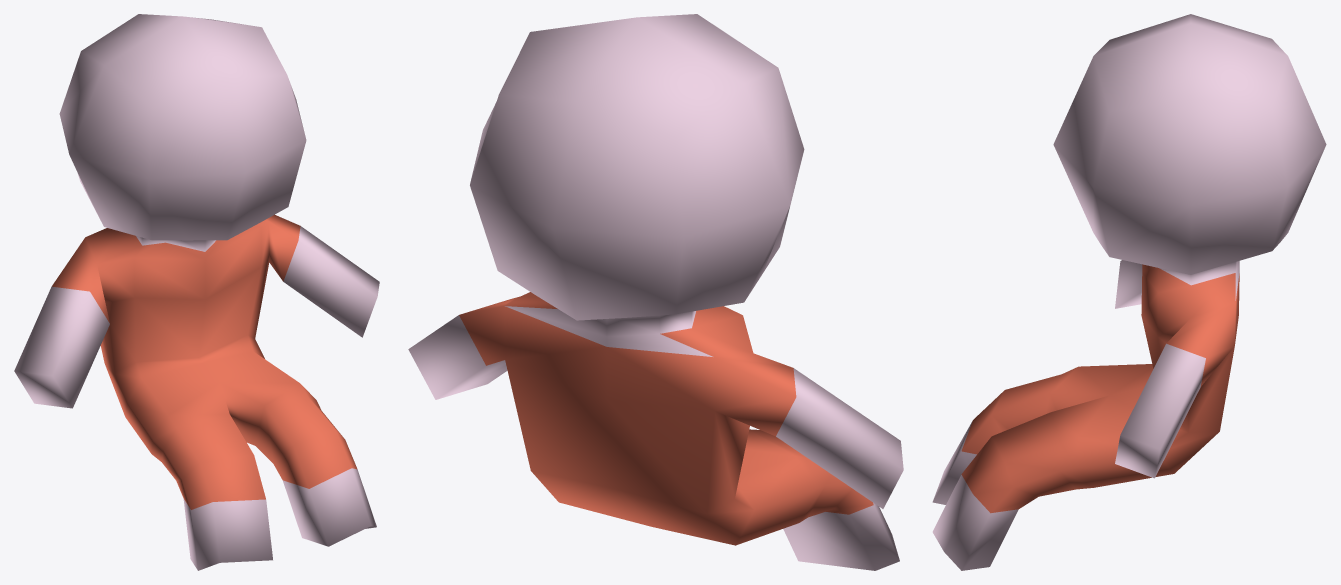
File: baby.glb
3 renders of one model, left to right at view 1: azimuth 30°, elevation 25°; view 2: azimuth 150°, elevation 25°; view 3: azimuth 270°, elevation 25°, orthographic. The views are drawn at different scales.
Parts seen in each view (by area): view 1: bABY; view 2: bABY; view 3: bABY.
Boxes of the visible parts, x1=… form: bABY: x1=14, y1=14, x2=379, y2=570; bABY: x1=408, y1=14, x2=903, y2=570; bABY: x1=932, y1=14, x2=1326, y2=570.
Bounding box in the file's own units: 0.4538 × 0.5473 × 0.3865.
